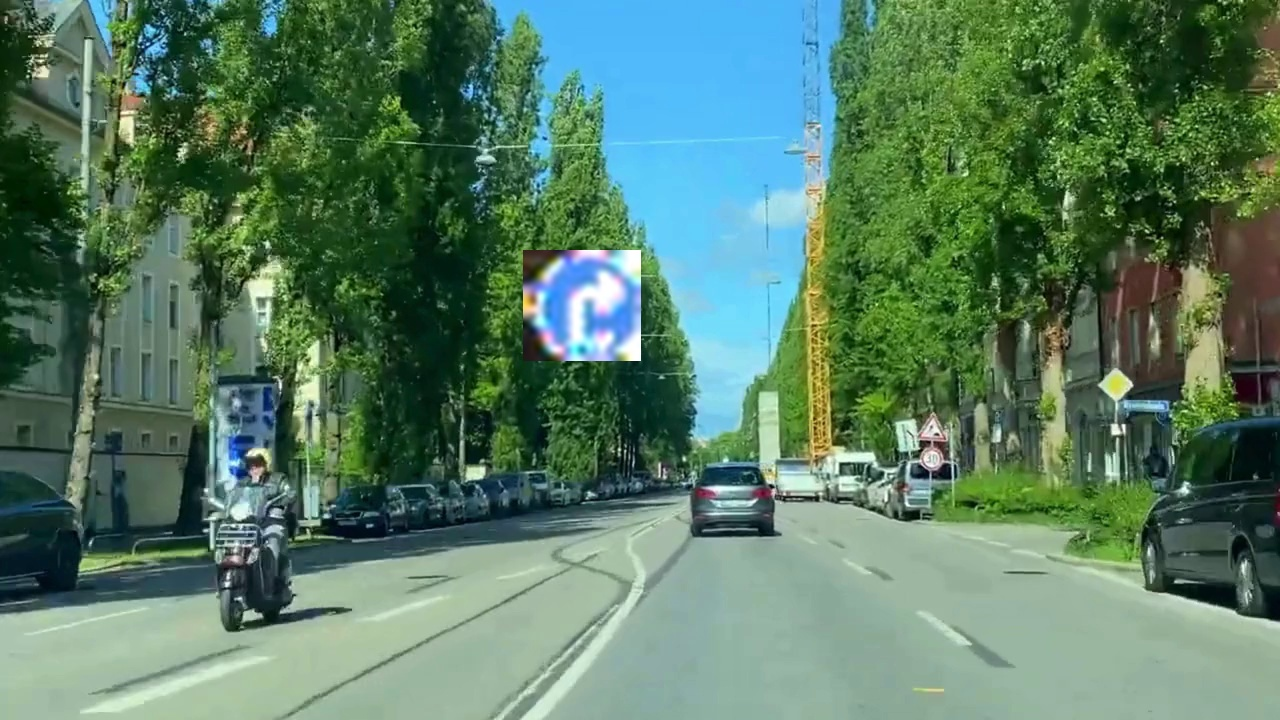Turn right: (523, 250, 641, 361)
